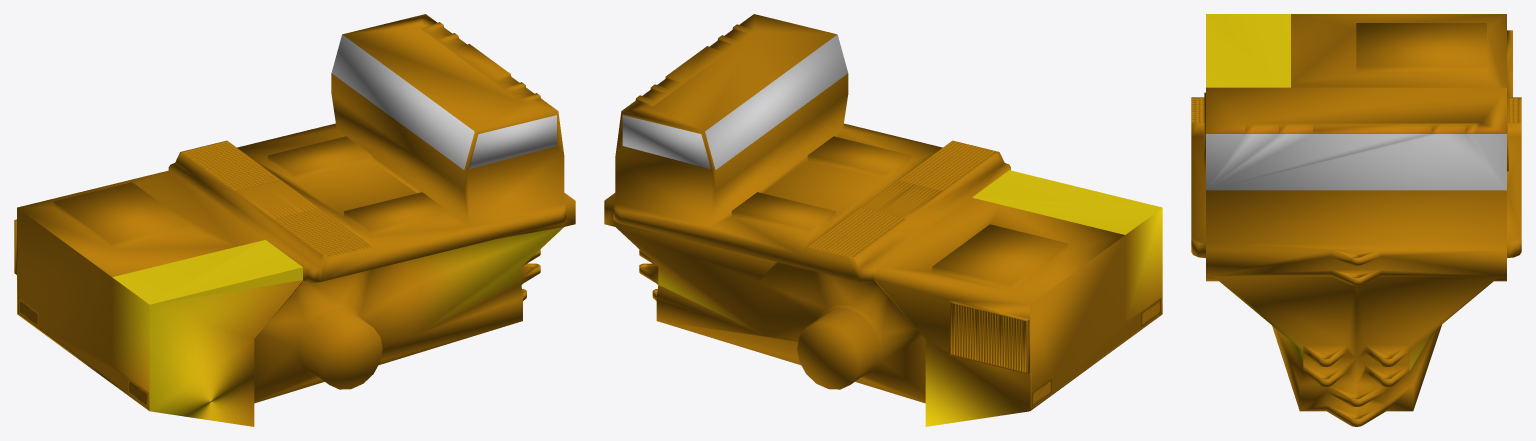
Rendered from behindbase_Link.dae.
3 views of the same model, side by side, from view 1: azimuth 30°, elevation 25°; view 2: azimuth 150°, elevation 25°; view 3: azimuth 270°, elevation 25° (orthographic). The views are drawn at different scales.
Visible parts, largest first — view 1: node0; view 2: node0; view 3: node0.
Part boxes in pixels (<box>): node0: <box>14,14,575,426</box>; node0: <box>604,14,1162,426</box>; node0: <box>1191,14,1521,426</box>.
Size of the model in its own units: 3.95 by 2.25 by 2.08.
